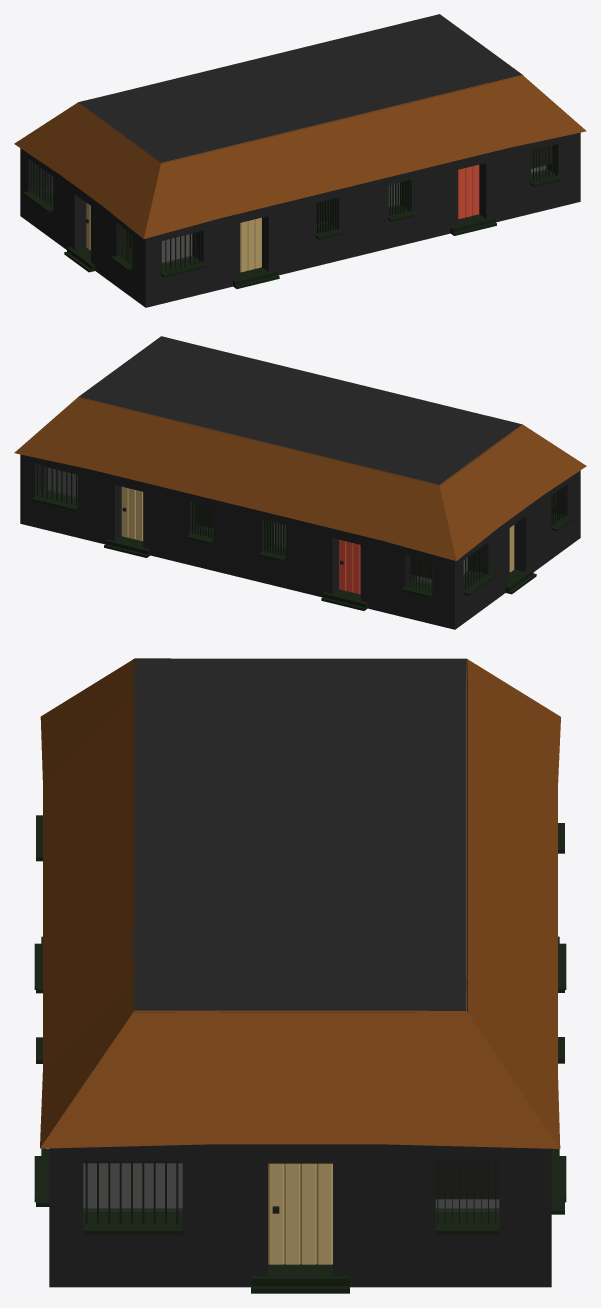
The model's file is Casa_Procedural_20.fbx.
3 views of the same model, one above another, from view 1: azimuth 30°, elevation 25°; view 2: azimuth 150°, elevation 25°; view 3: azimuth 270°, elevation 25° (orthographic). The views are drawn at different scales.
Visible parts, largest first — view 1: 20; view 2: 20; view 3: 20.
Boxes of the visible parts, <box> form: 20: <box>14,14,586,307</box>; 20: <box>14,336,586,629</box>; 20: <box>34,658,566,1293</box>.
Bounding box in the file's own units: 618 × 159 × 318.
